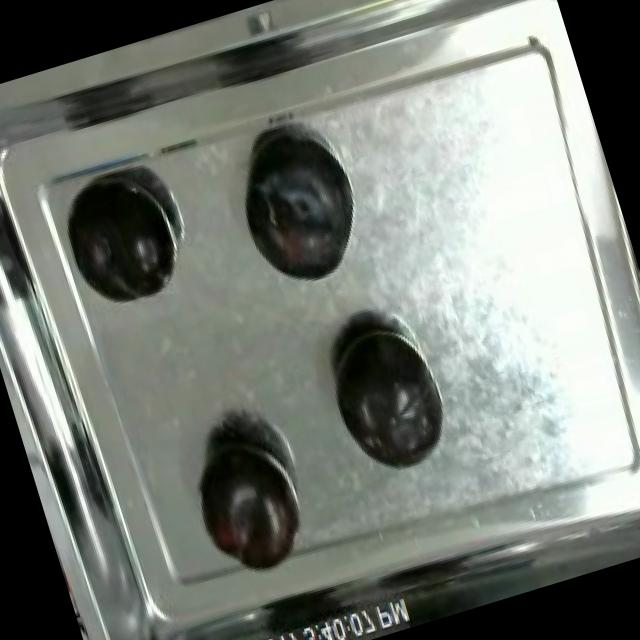Fruit: (219, 120, 375, 301), (313, 306, 461, 485), (179, 425, 315, 587), (54, 165, 186, 318)
